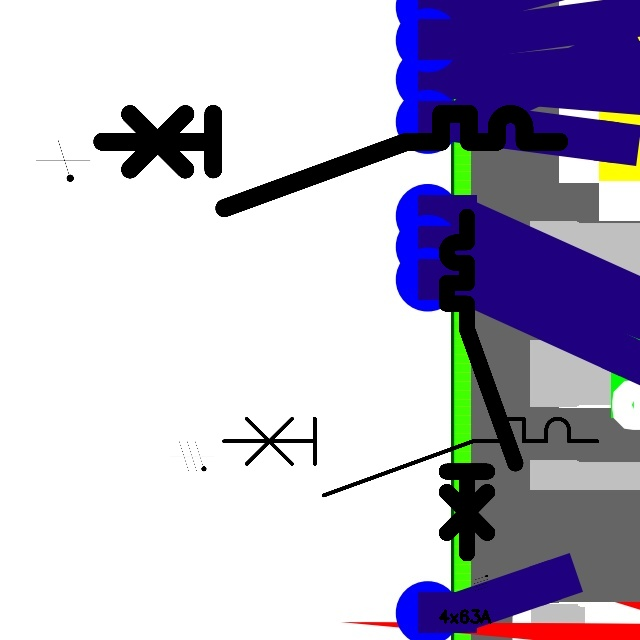interruptor_termomagnetico: (90, 102, 571, 219), (214, 409, 606, 505), (438, 208, 524, 562)
